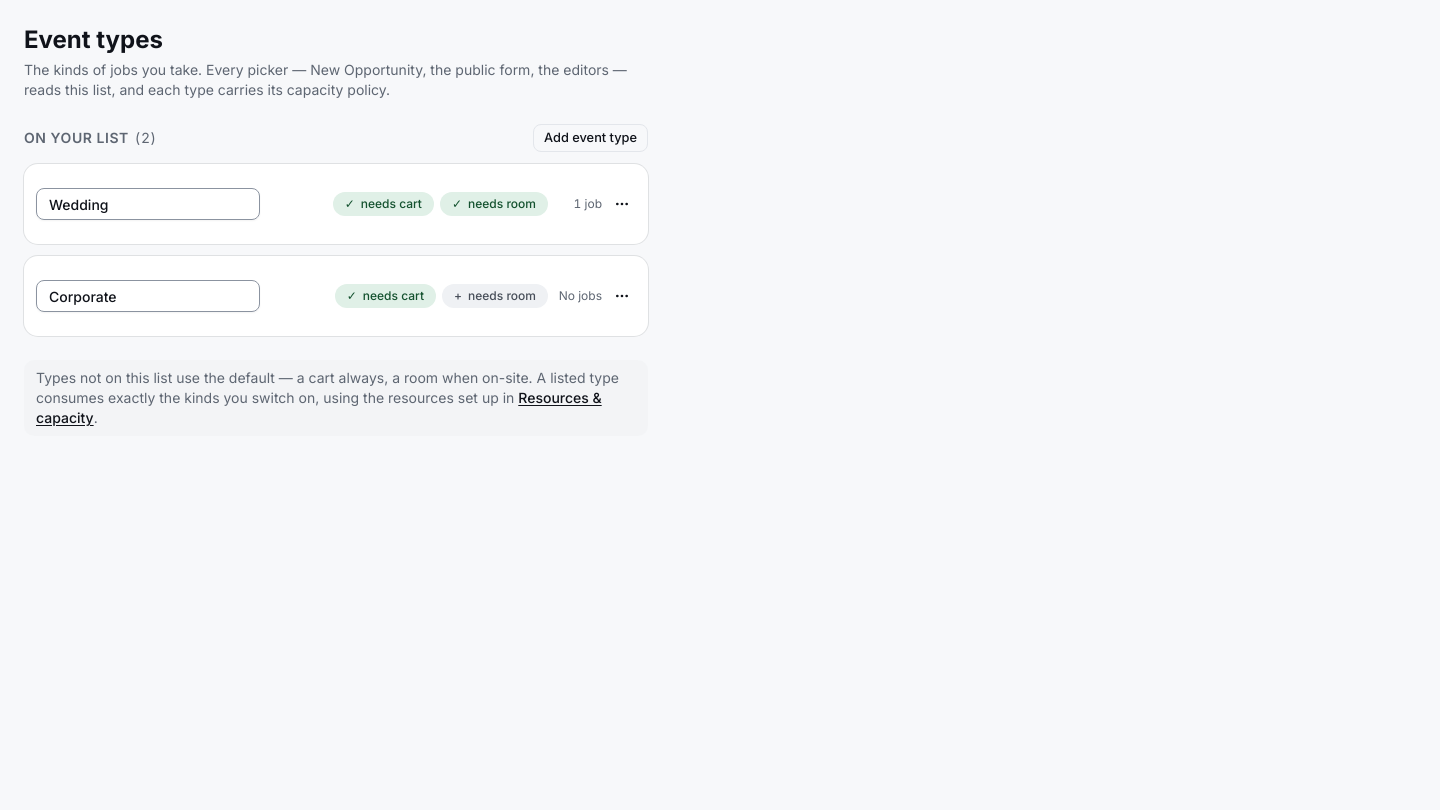
Test: EventTypesClient › a confirmed destructive action dropped by the in-flight lock surfaces an error, never silence
Click the button with aria-label "Wedding — needs room" at (494, 204), box 440,192 -> 548,216
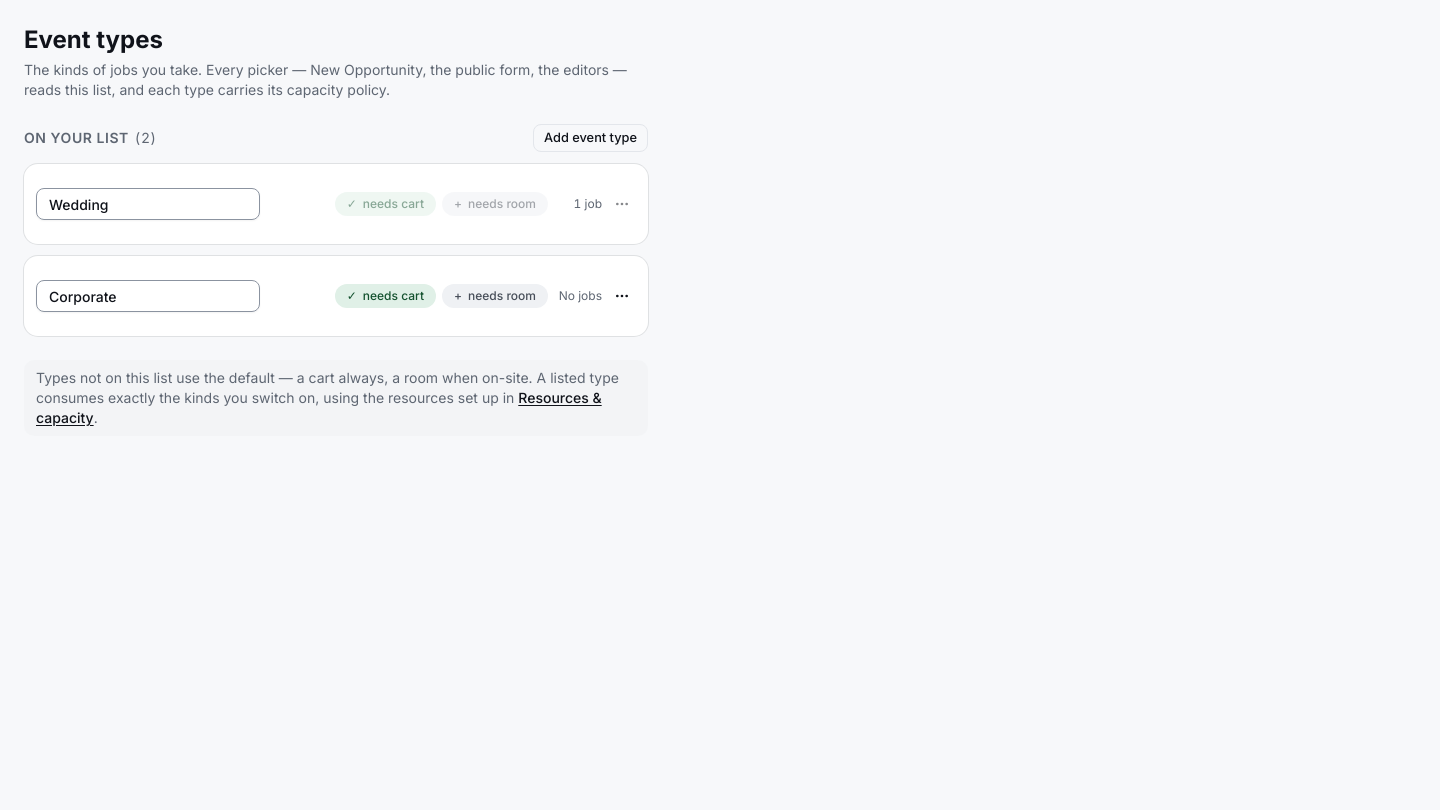
Click the button named "Corporate — actions" at (622, 296), box 608,282 -> 636,310
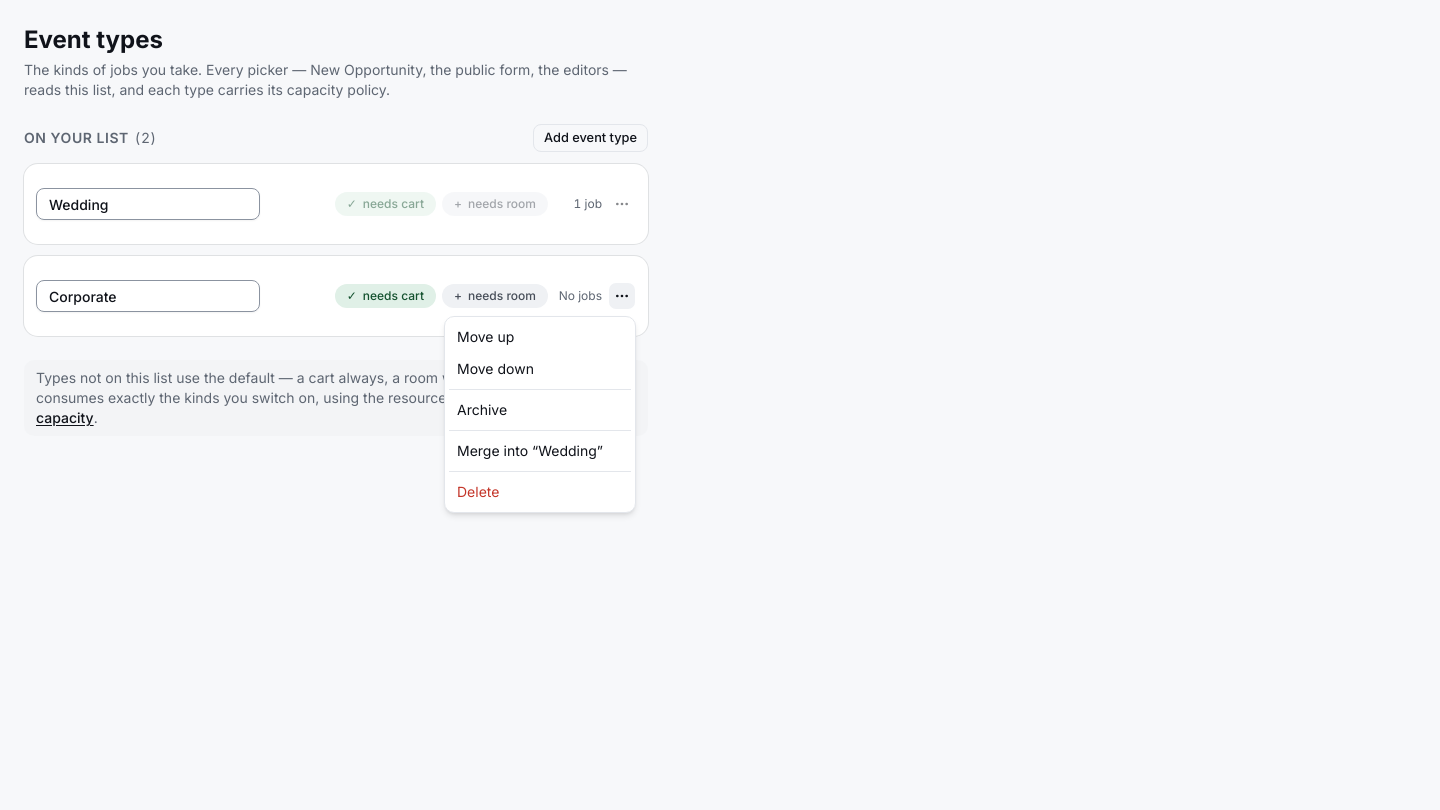
Click the menu item "Delete" at (478, 492), box 457,483 -> 499,500
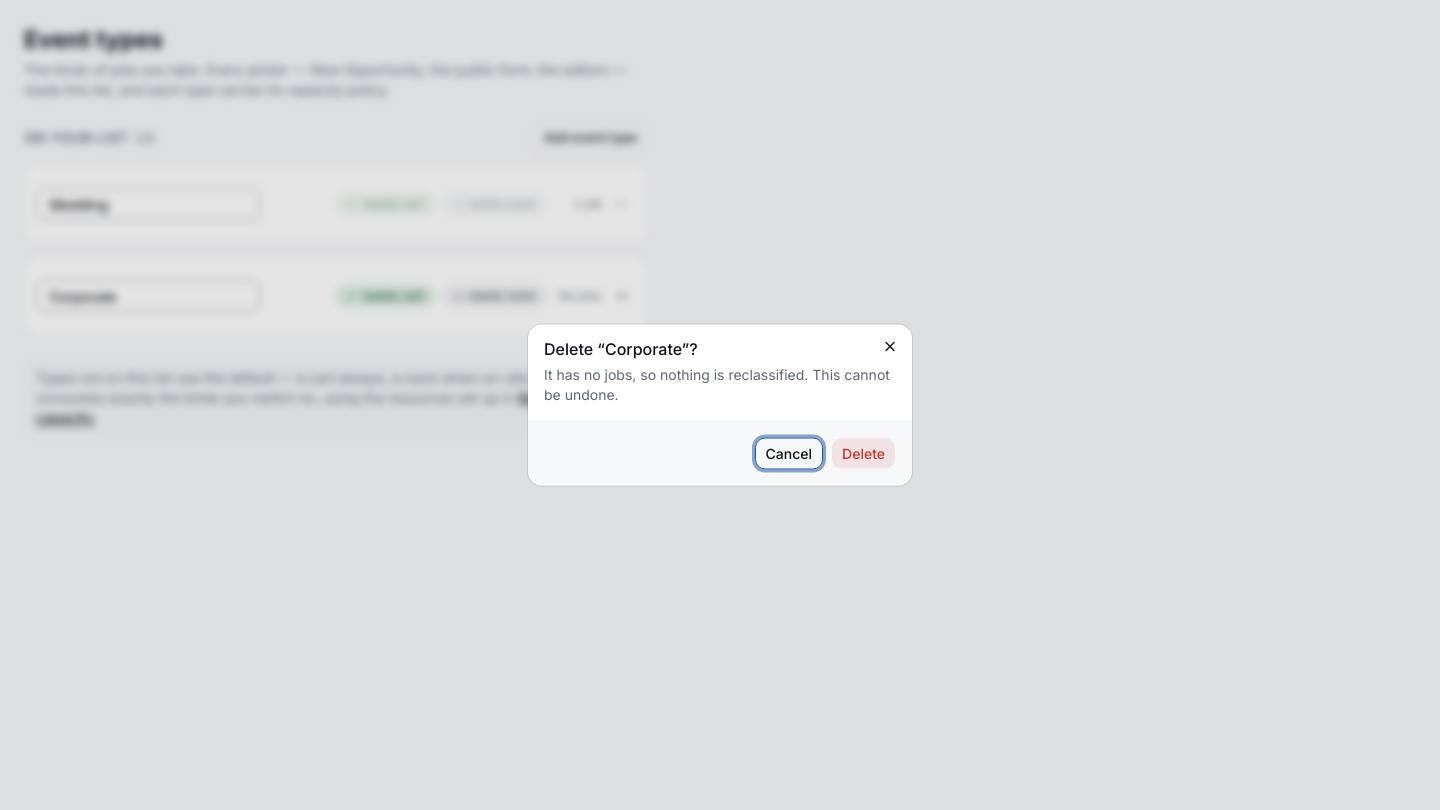
expect the heading "Delete “Corporate”?" is shown: met, box 544,338 -> 698,358
Click the button "Delete" at (864, 454), box 831,438 -> 896,470
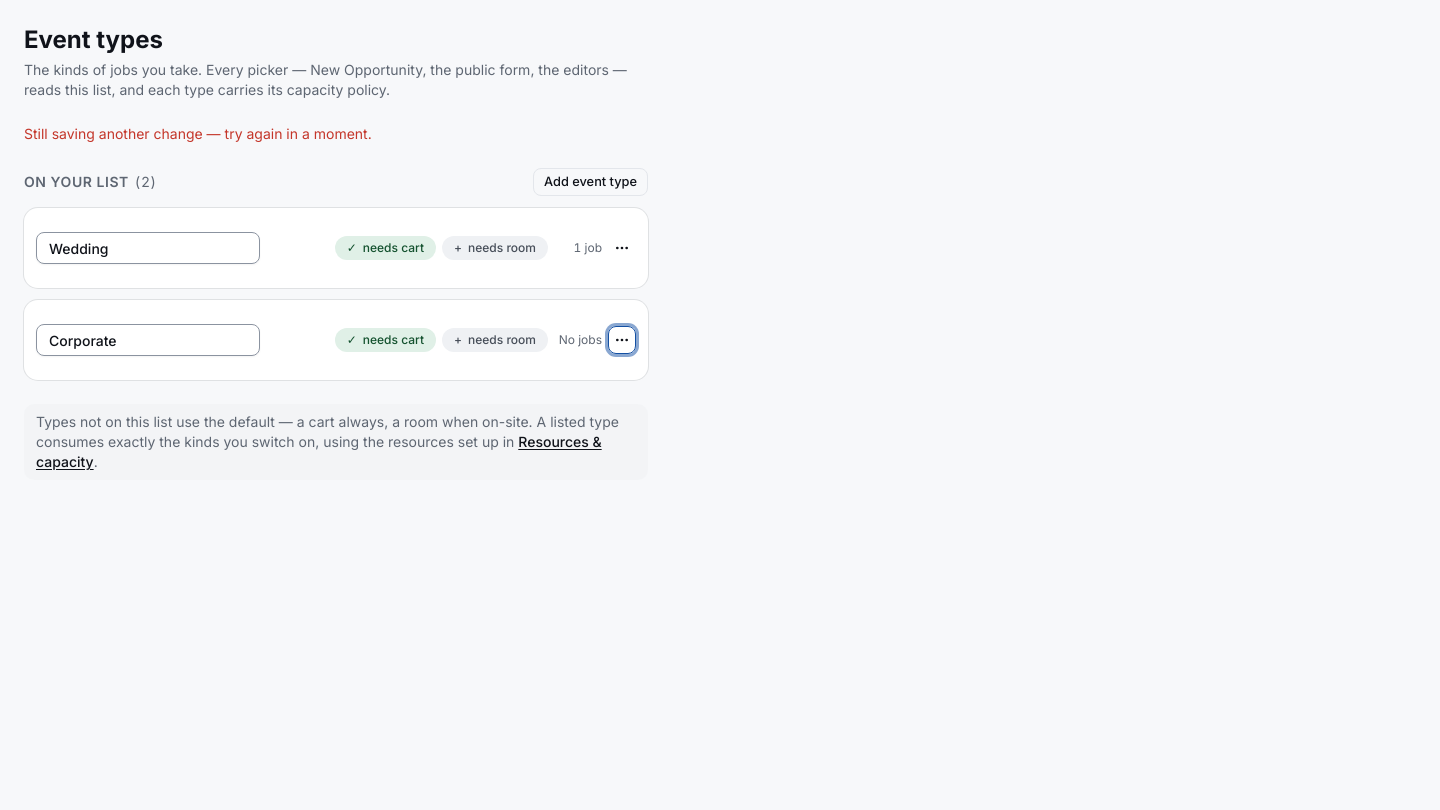
expect the field showing "Corporate" is shown: met, box 36,324 -> 260,356
expect the text "Still saving another change — try again in a moment." is shown: met, box 24,125 -> 372,142
expect the button with aria-label "Wedding — needs cart" is enabled: met, box 335,236 -> 436,260
